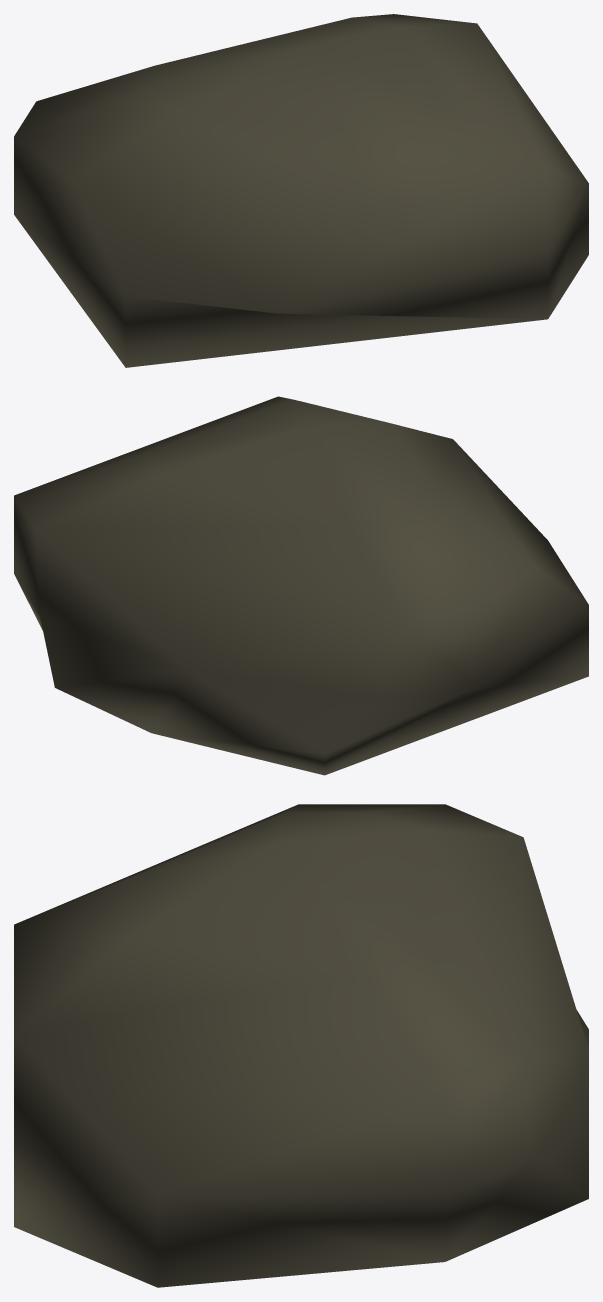
File: Rock.obj
3 views of the same model, one above another, from view 1: azimuth 30°, elevation 25°; view 2: azimuth 150°, elevation 25°; view 3: azimuth 270°, elevation 25° (orthographic). The views are drawn at different scales.
Visible parts, largest first — view 1: pCube1_standardSurface2SG; view 2: pCube1_standardSurface2SG; view 3: pCube1_standardSurface2SG.
Boxes of the visible parts, x1,y1,x2,y2 form: pCube1_standardSurface2SG: (14,14,588,367); pCube1_standardSurface2SG: (14,396,588,775); pCube1_standardSurface2SG: (14,804,588,1287).
Bounding box in the file's own units: 2.14 × 1.02 × 1.79.
Materials: 1 (1 with a texture image).
